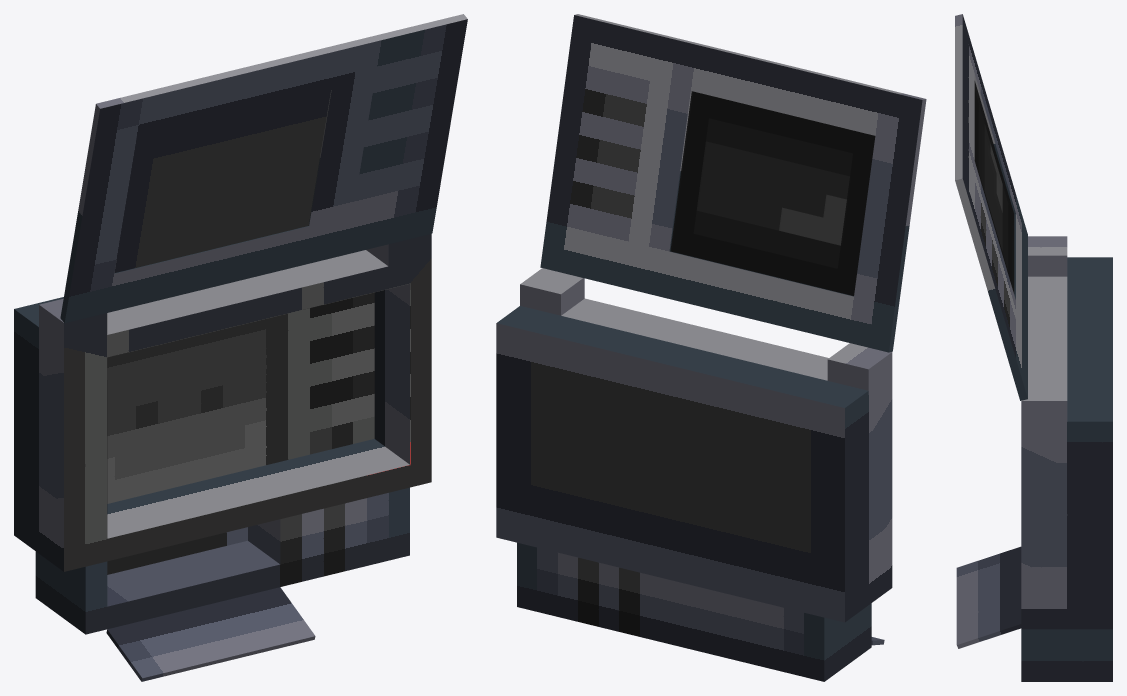
The model's file is apc_maintenance.glb.
3 views of the same model, side by side, from view 1: azimuth 30°, elevation 25°; view 2: azimuth 150°, elevation 25°; view 3: azimuth 270°, elevation 25° (orthographic). The views are drawn at different scales.
Parts seen in each view (by area): view 1: Lined_Enclosure, Main_Cover, Interior_Backplate, Display_Back, Lower_Control_Housing, Wiring_Cover, Wire_Terminal_Block; view 2: Lined_Enclosure, Main_Cover, Display_Glass, Lower_Control_Housing; view 3: Lined_Enclosure, Main_Cover, Wiring_Cover, Lower_Control_Housing, Display_Glass.
Part boxes in pixels (x1,y1,x2,y2): Lined_Enclosure: (14, 234, 431, 571); Main_Cover: (60, 14, 467, 323); Interior_Backplate: (107, 292, 374, 503); Display_Back: (114, 90, 330, 273); Lower_Control_Housing: (35, 487, 409, 634); Wiring_Cover: (106, 587, 315, 681); Wire_Terminal_Block: (107, 527, 247, 574); Lined_Enclosure: (496, 268, 892, 622); Main_Cover: (540, 14, 926, 352); Display_Glass: (670, 91, 875, 295); Lower_Control_Housing: (517, 542, 871, 681); Lined_Enclosure: (1021, 236, 1112, 629); Main_Cover: (955, 14, 1027, 400); Wiring_Cover: (956, 546, 1021, 648); Lower_Control_Housing: (1021, 629, 1112, 681); Display_Glass: (974, 81, 1014, 293).
Bounding box in the file's own units: 0.4781 × 0.7293 × 0.194.
Materials: 2 (2 with a texture image).
